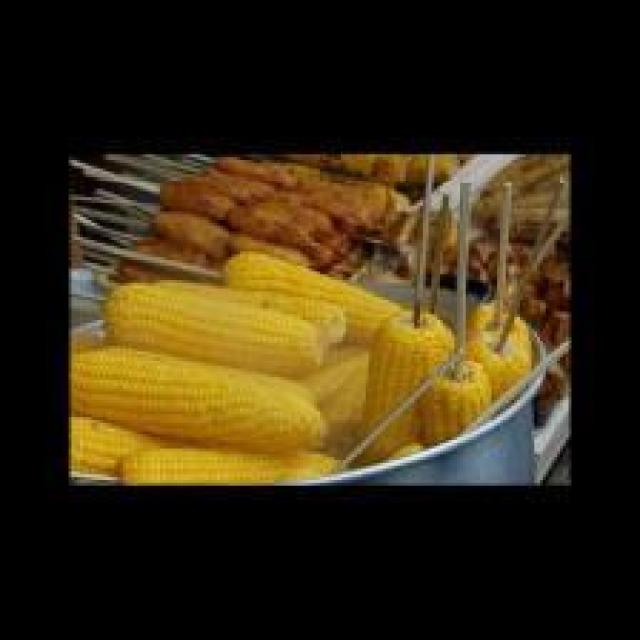corn: (77, 257, 397, 480)
